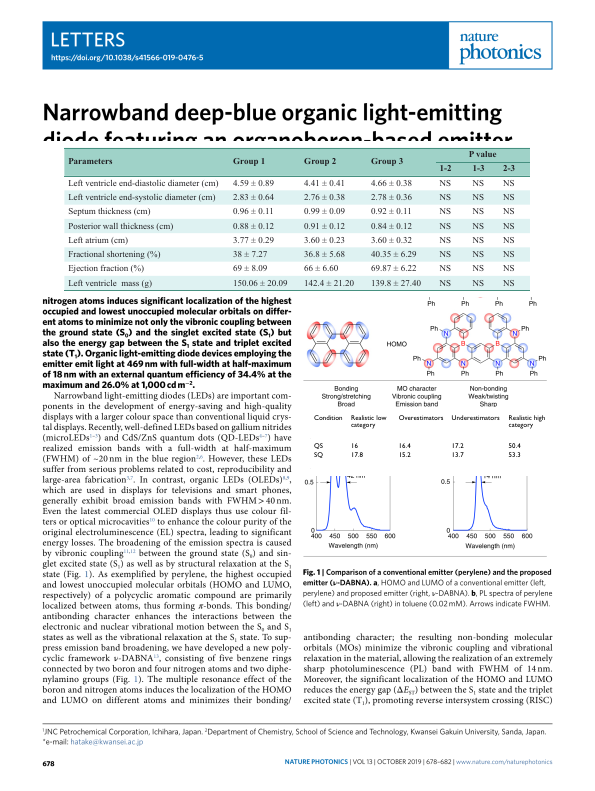borderless: (63, 146, 530, 290), (308, 412, 548, 470)
cell: (66, 179, 219, 189), (66, 193, 216, 203), (66, 222, 174, 232), (66, 250, 161, 260), (66, 207, 151, 218), (66, 279, 152, 289), (66, 264, 144, 275), (507, 414, 546, 430), (66, 236, 128, 246), (349, 414, 387, 430), (232, 279, 288, 289), (370, 264, 417, 275), (303, 279, 354, 289), (370, 279, 421, 289), (370, 250, 417, 260), (232, 207, 274, 218), (303, 207, 345, 218), (370, 207, 412, 218), (67, 158, 113, 168), (450, 414, 500, 423), (397, 414, 444, 423), (232, 179, 274, 189), (303, 179, 345, 189), (370, 179, 412, 189), (232, 193, 274, 203), (303, 193, 345, 203), (370, 193, 412, 203), (232, 222, 274, 232), (303, 222, 345, 232), (370, 222, 412, 232), (232, 236, 274, 246), (303, 236, 345, 246), (370, 236, 412, 246), (303, 250, 345, 260), (232, 264, 268, 275), (303, 264, 339, 275), (232, 250, 268, 260), (369, 158, 404, 168), (232, 158, 266, 168), (303, 158, 337, 168), (467, 151, 497, 161), (313, 414, 343, 423), (438, 207, 452, 218), (471, 207, 485, 218), (438, 264, 452, 275), (471, 264, 485, 275), (502, 207, 515, 218), (502, 264, 515, 275), (438, 165, 452, 175), (471, 165, 485, 175), (501, 165, 515, 175), (438, 179, 452, 189), (471, 179, 485, 189), (438, 193, 452, 203), (471, 193, 485, 203), (438, 222, 452, 232), (471, 222, 485, 232), (438, 236, 452, 246), (471, 236, 485, 246), (438, 250, 452, 260), (471, 250, 485, 260), (438, 279, 452, 289), (471, 279, 485, 289), (502, 179, 515, 189), (502, 193, 515, 203), (502, 222, 515, 232), (502, 236, 515, 246), (502, 250, 515, 260), (502, 279, 515, 289), (397, 442, 411, 451), (450, 442, 464, 451), (507, 442, 521, 451), (349, 451, 363, 460), (397, 451, 411, 460), (450, 451, 464, 460), (507, 451, 521, 460), (313, 442, 323, 451), (313, 451, 323, 460), (349, 442, 358, 451)
